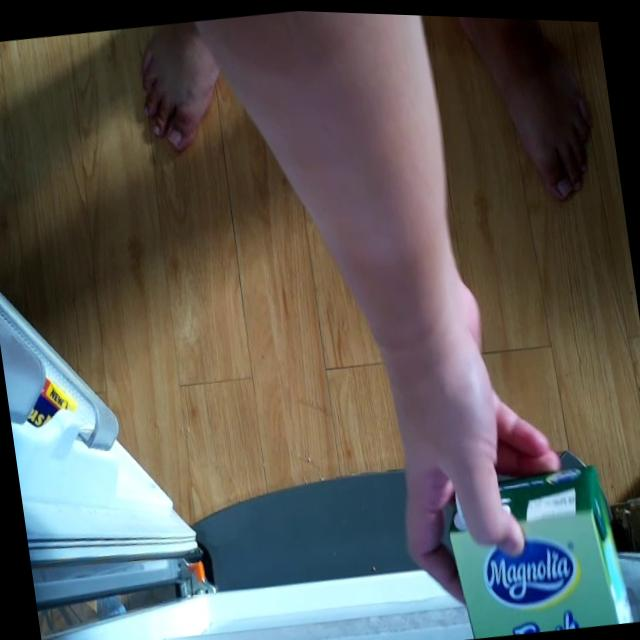milk: (431, 448, 633, 640)
